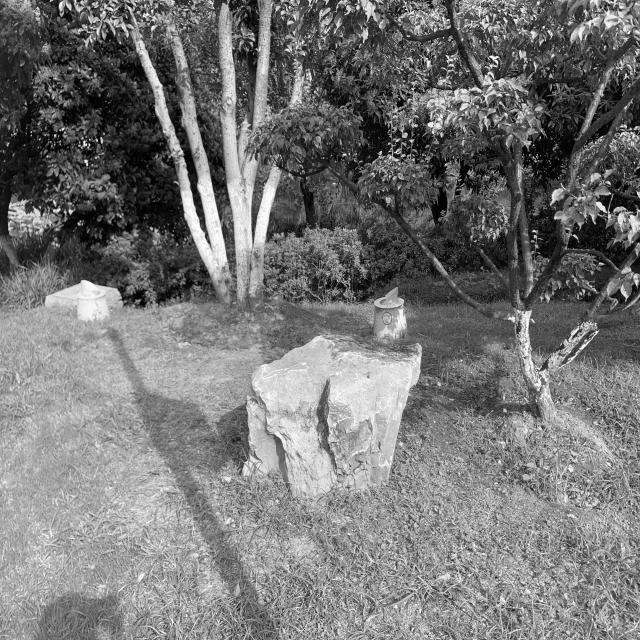Stone: (242, 336, 422, 497)
Tree: (321, 1, 640, 414), (128, 0, 282, 306)
